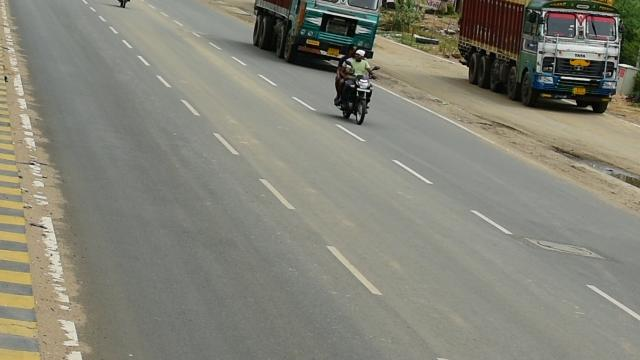Without Helmet: (354, 50, 366, 62)
